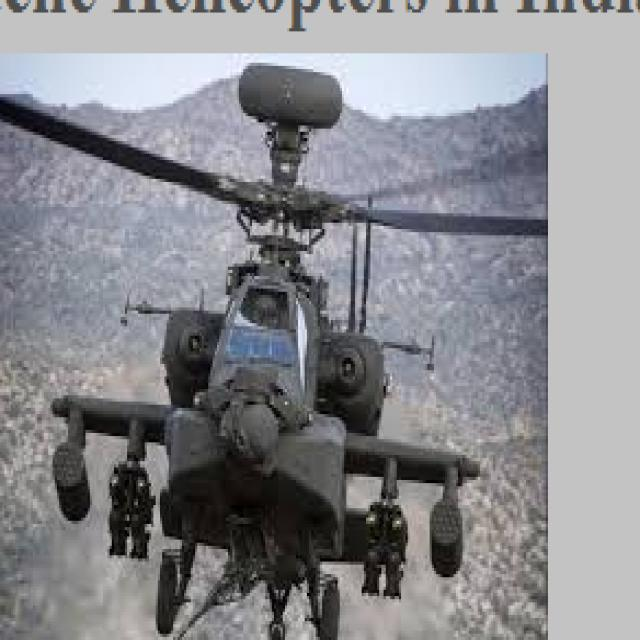helicopter: (25, 42, 488, 640)
